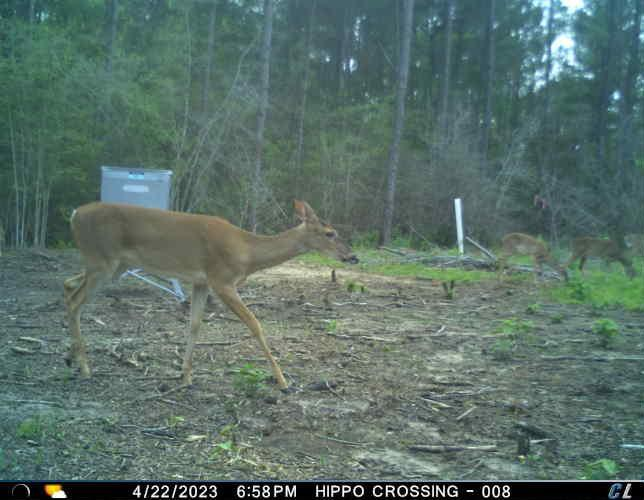Deer: (61, 197, 363, 398), (496, 231, 569, 289), (566, 237, 639, 281)
